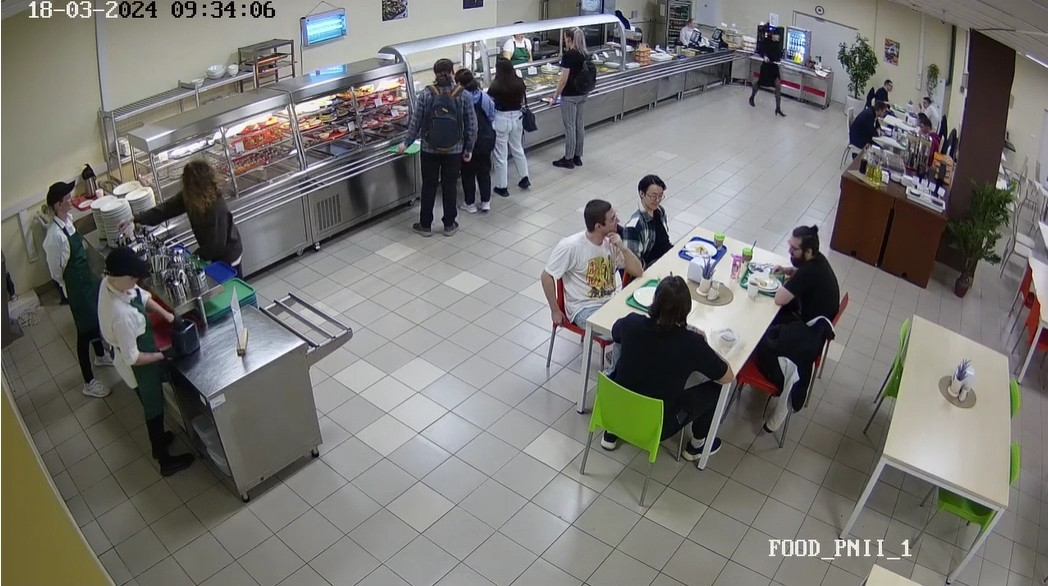Na_Kasse: (743, 35, 801, 114)
Personal: (88, 245, 198, 481), (36, 177, 108, 391), (504, 16, 540, 65), (605, 8, 642, 49), (465, 28, 491, 80), (677, 13, 705, 47)
Vybiraet: (113, 155, 262, 271), (405, 56, 466, 237), (440, 64, 501, 219), (487, 49, 540, 194), (549, 25, 594, 173)
Za_Stolom: (592, 272, 733, 517), (547, 194, 641, 373), (764, 214, 845, 320), (632, 171, 679, 246), (846, 97, 890, 148), (904, 114, 957, 151), (913, 90, 942, 125), (871, 80, 898, 107)
